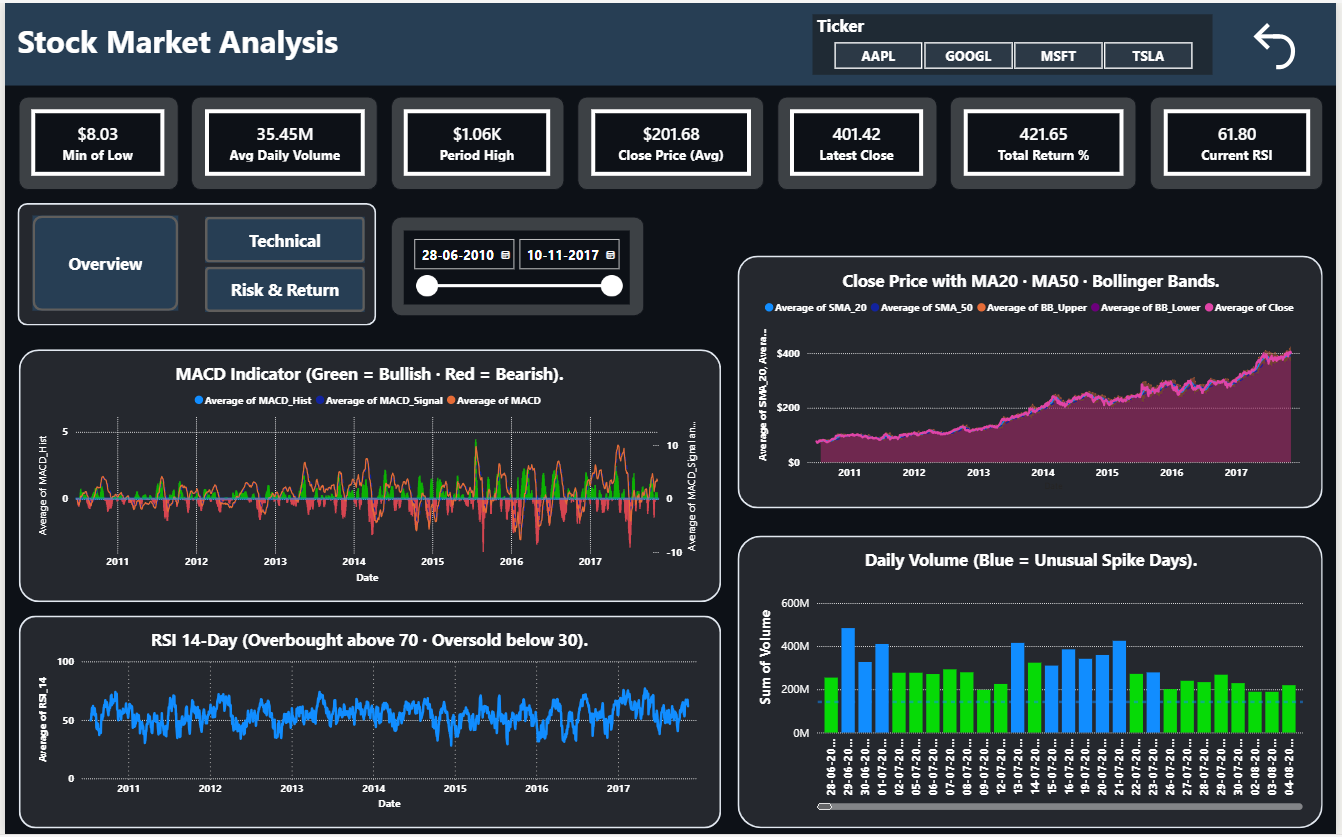

The page's visual inventory and layout, read from the dashboard file:
{"tool":"powerbi","page":{"name":"Technical","canvas":[1600,1000],"ordinal":1},"visuals":[{"type":"shape","box":[15.5,240.4,431.1,147.3],"z":0,"group":"g2"},{"type":"group","id":"g1","title":"Group 1","box":[16,304,1568,688],"z":0},{"type":"shape","box":[880.4,640,703.6,352],"z":0,"group":"g1"},{"type":"group","id":"g2","title":"Group 2","box":[0,0,1600.5,387.7],"z":1},{"type":"shape","box":[688,112,224,112],"z":1000,"group":"g2"},{"type":"shape","box":[880.4,304,703.6,304],"z":1000,"group":"g1"},{"type":"shape","box":[464,112,208,112],"z":2000,"group":"g2"},{"type":"shape","box":[16,736,844.3,256],"z":2000,"group":"g1"},{"type":"shape","box":[224,112,224,112],"z":3000,"group":"g2"},{"type":"shape","box":[16,416,844.3,304],"z":3000,"group":"g1"},{"type":"shape","box":[16,112,192,112],"z":4000,"group":"g2"},{"type":"textbox","title":"Stock Market Analysis","box":[0,0,1600.5,99.3],"z":5000,"group":"g2"},{"type":"shape","box":[463.7,257.4,304,119.4],"z":6000,"group":"g2"},{"type":"slicer","title":"Ticker","fields":{"Values":["Stocks_daily.Ticker"]},"box":[971.1,13,480.9,72.7],"z":7000,"group":"g2"},{"type":"shape","box":[1376,112,208,112],"z":8000,"group":"g2"},{"type":"shape","box":[1136,112,224,112],"z":9000,"group":"g2"},{"type":"cardVisual","fields":{"Data":["Avg(Stocks_daily.Close)"]},"box":[704,128,192,80],"z":10000,"group":"g2"},{"type":"shape","box":[928,112,192,112],"z":11000,"group":"g2"},{"type":"cardVisual","fields":{"Data":["Max(Stocks_daily.High)"]},"box":[480,128,176,80],"z":12000,"group":"g2"},{"type":"lineChart","title":"Close Price with MA20 · MA50 · Bollinger Bands.","fields":{"Category":["dim_date.Date.Variation.Date Hierarchy.Year"],"Y":["Avg(Stocks_daily.SMA_20)","Avg(Stocks_daily.SMA_50)","Avg(Stocks_daily.BB_Upper)","Avg(Stocks_daily.BB_Lower)","Avg(Stocks_daily.Close)"]},"box":[900.5,320,663.4,272],"z":12000,"group":"g1"},{"type":"cardVisual","fields":{"Data":["Min(Stocks_daily.Low)"]},"box":[32,128,160,80],"z":13000,"group":"g2"},{"type":"lineChart","title":"RSI 14-Day (Overbought above 70 · Oversold below 30).","fields":{"Category":["dim_date.Date.Variation.Date Hierarchy.Year"],"Y":["Avg(Stocks_daily.RSI_14)"]},"box":[36.1,752,804.1,224],"z":13000,"group":"g1"},{"type":"cardVisual","fields":{"Data":["Avg(Stocks_daily.Volume)"]},"box":[240,128,192,80],"z":14000,"group":"g2"},{"type":"lineStackedColumnComboChart","title":"MACD Indicator (Green = Bullish · Red = Bearish).","fields":{"Category":["dim_date.Date.Variation.Date Hierarchy.Year"],"Y":["Avg(Stocks_daily.MACD_Hist)"],"Y2":["Avg(Stocks_daily.MACD_Signal)","Avg(Stocks_daily.MACD)"]},"box":[36.1,432,804.1,272],"z":14000,"group":"g1"},{"type":"cardVisual","fields":{"Data":["Measures (2).Latest Close"]},"box":[944,128,160,80],"z":15000,"group":"g2"},{"type":"clusteredColumnChart","title":"Daily Volume (Blue = Unusual Spike Days).","fields":{"Category":["dim_date.Date.Variation.Date Hierarchy.Year"],"Y":["Sum(Stocks_daily.Volume)"]},"box":[900.5,656,663.4,320],"z":15000,"group":"g1"},{"type":"cardVisual","fields":{"Data":["Measures (2).Total Return %"]},"box":[1152,128,192,80],"z":16000,"group":"g2"},{"type":"cardVisual","fields":{"Data":["Measures (2).Current RSI"]},"box":[1392,128,176,80],"z":17000,"group":"g2"},{"type":"slicer","fields":{"Values":["dim_date.Date"]},"box":[479.2,273,271.4,88.4],"z":18000,"group":"g2"},{"type":"actionButton","title":"Overview","box":[32.6,255.9,175.2,114.8],"z":19000,"group":"g2"},{"type":"actionButton","title":"Overview","box":[240.4,316.4,192.3,54.3],"z":20000,"group":"g2"},{"type":"actionButton","title":"Overview","box":[240.4,257.4,192,55],"z":21000,"group":"g2"},{"type":"actionButton","box":[1480,14.9,93.2,72.7],"z":22000,"group":"g2"}]}

Visuals, with their boxes in screenshot pixels (x1, y1, x2, y2), scaled from the page's 1600x1000 canvas onto the 1342x837 screenshot:
shape: bbox(13, 201, 375, 325)
"Group 1" group: bbox(13, 254, 1329, 830)
shape: bbox(738, 536, 1329, 830)
"Group 2" group: bbox(0, 0, 1341, 325)
shape: bbox(577, 94, 765, 187)
shape: bbox(738, 254, 1329, 509)
shape: bbox(389, 94, 564, 187)
shape: bbox(13, 616, 722, 830)
shape: bbox(188, 94, 376, 187)
shape: bbox(13, 348, 722, 603)
shape: bbox(13, 94, 174, 187)
"Stock Market Analysis" textbox: bbox(0, 0, 1341, 83)
shape: bbox(389, 215, 644, 315)
"Ticker" slicer: bbox(815, 11, 1218, 72)
shape: bbox(1154, 94, 1329, 187)
shape: bbox(953, 94, 1141, 187)
cardVisual - Avg(Stocks_daily.Close): bbox(590, 107, 752, 174)
shape: bbox(778, 94, 939, 187)
cardVisual - Max(Stocks_daily.High): bbox(403, 107, 550, 174)
"Close Price with MA20 · MA50 · Bollinger Bands." lineChart: bbox(755, 268, 1312, 496)
cardVisual - Min(Stocks_daily.Low): bbox(27, 107, 161, 174)
"RSI 14-Day (Overbought above 70 · Oversold below 30)." lineChart: bbox(30, 629, 705, 817)
cardVisual - Avg(Stocks_daily.Volume): bbox(201, 107, 362, 174)
"MACD Indicator (Green = Bullish · Red = Bearish)." lineStackedColumnComboChart: bbox(30, 362, 705, 589)
cardVisual - Measures (2).Latest Close: bbox(792, 107, 926, 174)
"Daily Volume (Blue = Unusual Spike Days)." clusteredColumnChart: bbox(755, 549, 1312, 817)
cardVisual - Measures (2).Total Return %: bbox(966, 107, 1127, 174)
cardVisual - Measures (2).Current RSI: bbox(1168, 107, 1315, 174)
slicer - dim_date.Date: bbox(402, 229, 630, 302)
"Overview" actionButton: bbox(27, 214, 174, 310)
"Overview" actionButton: bbox(202, 265, 363, 310)
"Overview" actionButton: bbox(202, 215, 363, 261)
actionButton: bbox(1241, 12, 1320, 73)
